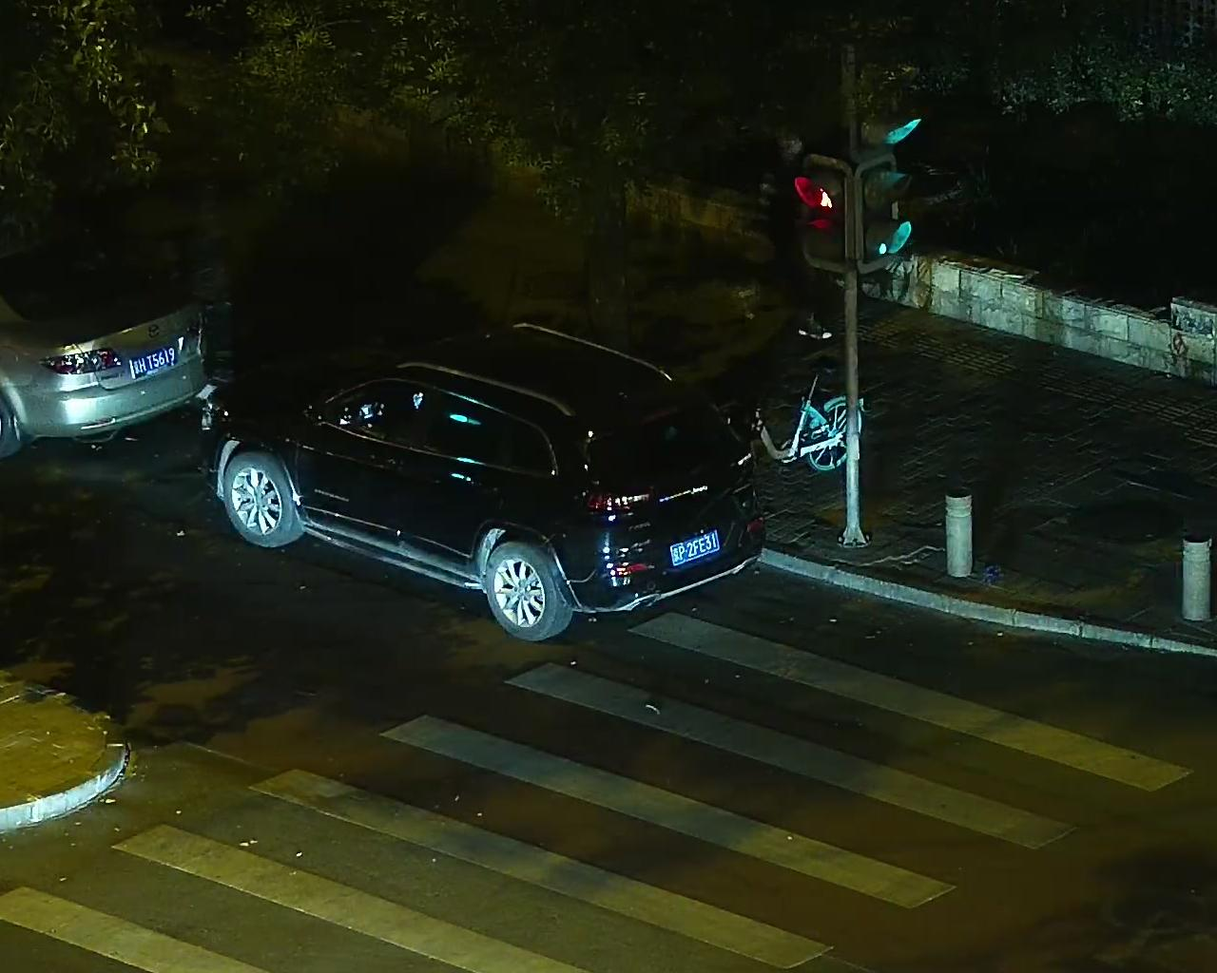person: (731, 127, 830, 349)
